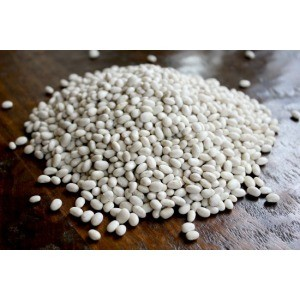beans_brain food: (79, 88, 235, 164)
